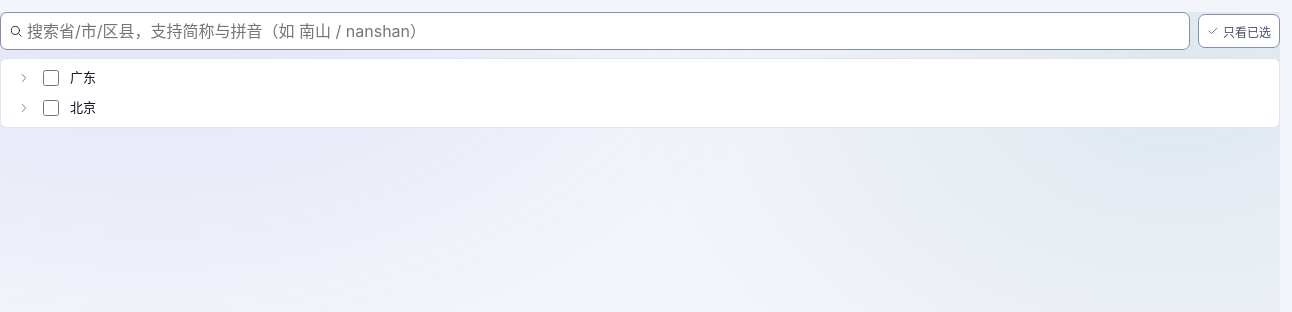
DistrictTree · 搜索（树内就地过滤） › 搜不到时给空态而不是一片空白
Type "不存在的地名" into the search field with test id "district-search" at (604, 31), box [27,17,1181,45]
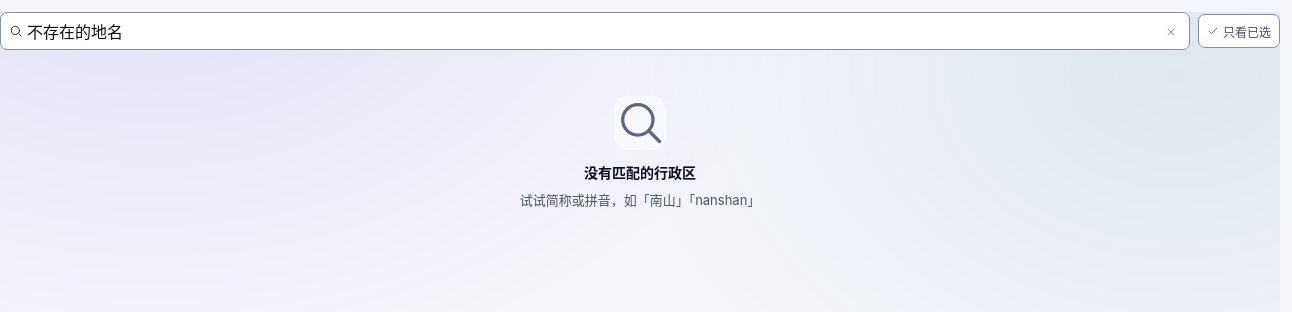
expect the text "没有匹配的行政区" is shown: met, box [584,162,696,183]
